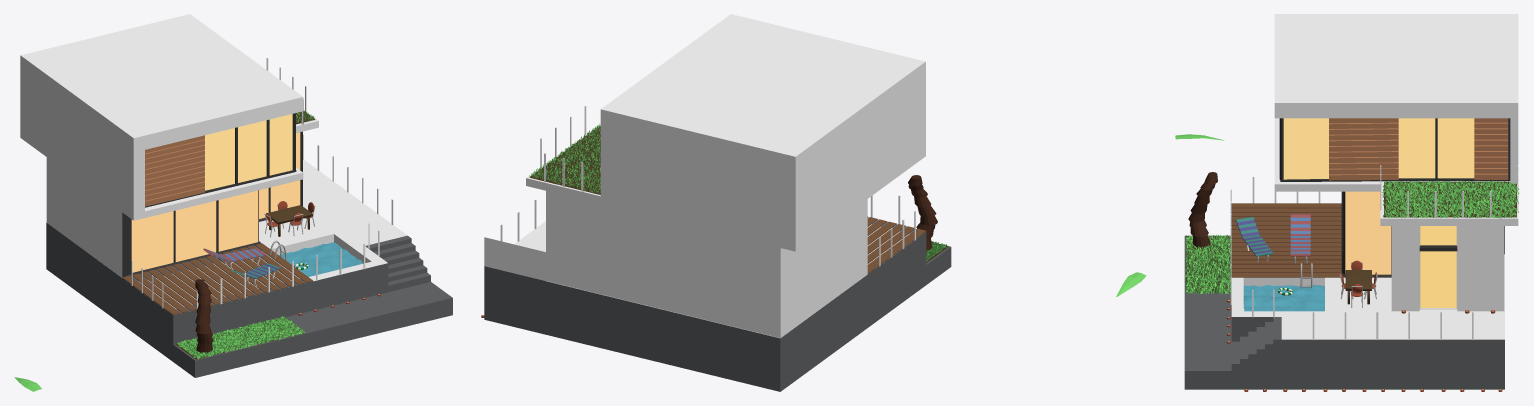
File: house.glb
3 views of the same model, side by side, from view 1: azimuth 30°, elevation 25°; view 2: azimuth 150°, elevation 25°; view 3: azimuth 270°, elevation 25° (orthographic). The views are drawn at different scales.
Parts seen in each view (by area): view 1: home main part, Door farme, DOOR LIGHT, Plane.004, Steps, Water, fence, tree, Cube.002, Chair, Plane.001; view 2: home main part, grass 1, Plane.004, fence, tree; view 3: home main part, Door farme, Plane.004, DOOR LIGHT, grass 1, Steps, Water, fence, tree, Plane.001, Plane.002, Grass (+2 smaller).
Part boxes in pixels (<box>): home main part: <box>20,14,452,377</box>; Door farme: <box>145,113,296,207</box>; DOOR LIGHT: <box>122,131,302,277</box>; Plane.004: <box>122,243,312,315</box>; Steps: <box>365,235,430,291</box>; Water: <box>279,242,362,276</box>; fence: <box>131,57,393,309</box>; tree: <box>195,279,213,353</box>; Cube.002: <box>267,205,312,236</box>; Chair: <box>264,201,315,237</box>; Plane.001: <box>203,248,266,262</box>; home main part: <box>484,14,951,391</box>; grass 1: <box>529,125,600,194</box>; Plane.004: <box>867,216,926,273</box>; fence: <box>500,105,915,266</box>; tree: <box>908,175,937,251</box>; home main part: <box>1184,14,1518,389</box>; Door farme: <box>1279,118,1510,181</box>; Plane.004: <box>1231,203,1341,277</box>; DOOR LIGHT: <box>1341,191,1391,277</box>; grass 1: <box>1384,182,1516,217</box>; Steps: <box>1231,317,1281,370</box>; Water: <box>1243,284,1324,311</box>; fence: <box>1230,165,1518,339</box>; tree: <box>1188,172,1217,248</box>; Plane.001: <box>1290,214,1310,256</box>; Plane.002: <box>1235,217,1273,256</box>; Grass: <box>1186,236,1230,292</box>.
Size of what is drawn, in the model's own units: 17.99 by 8.56 by 11.6.
